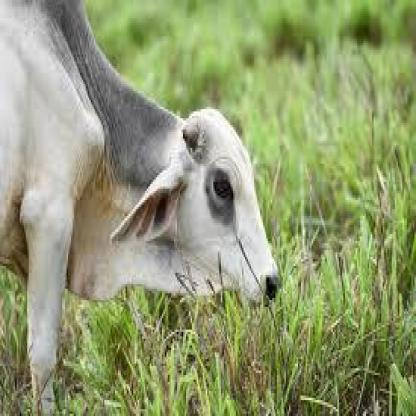cow: (0, 0, 277, 414)
